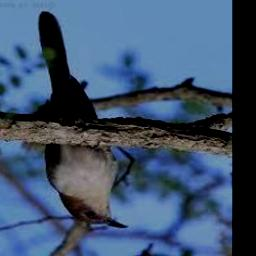Cuckoo: (37, 12, 129, 229)
